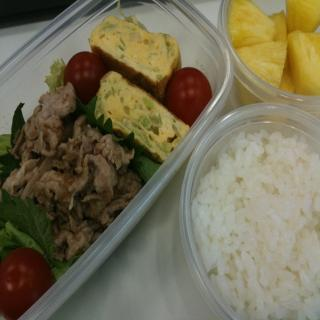tomato: (1, 246, 54, 319), (166, 66, 211, 130), (64, 51, 107, 107)
